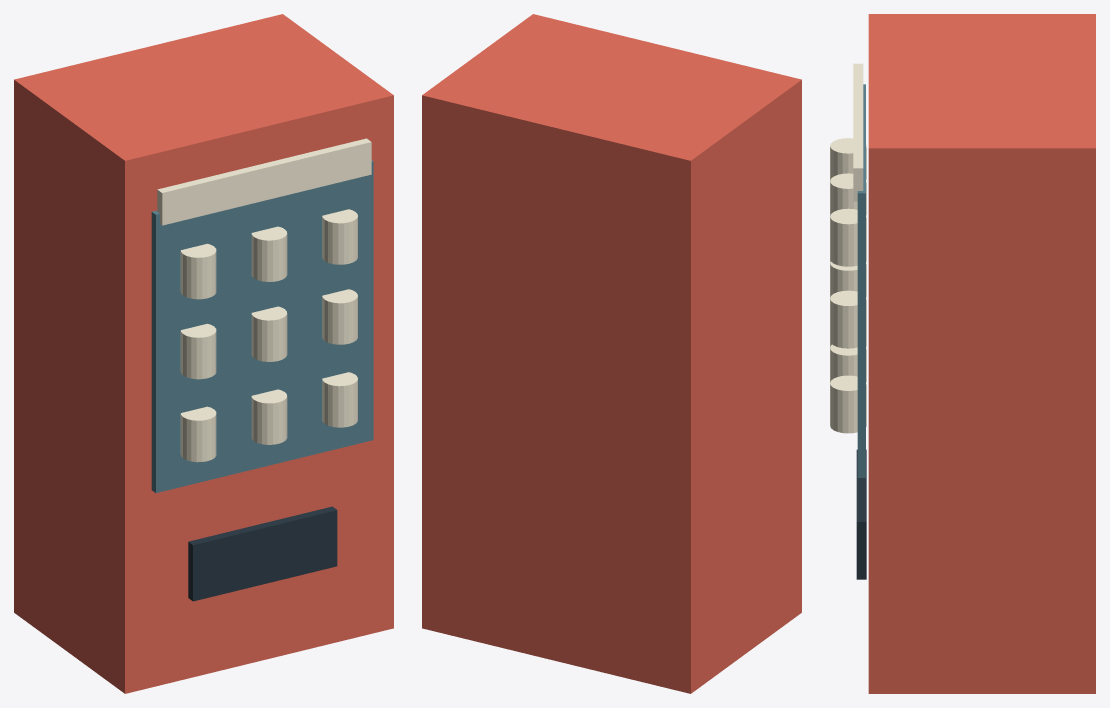
File: food.glb
3 views of the same model, side by side, from view 1: azimuth 30°, elevation 25°; view 2: azimuth 150°, elevation 25°; view 3: azimuth 270°, elevation 25° (orthographic). The views are drawn at different scales.
Parts seen in each view (by area): view 1: Machine, Display, Delivery slot, Label, Can.002, Can, Can.003, Can.001, Can.004, Can.005, Can.007, Can.006 (+1 smaller); view 2: Machine; view 3: Machine, Display, Can.006, Can.007, Can.008, Label, Delivery slot, Can.005, Can.002, Can.003, Can.004.
Boxes of the visible parts, box(x1,y1,x2,y2) form: Machine: box(14, 14, 393, 693); Display: box(151, 160, 373, 492); Delivery slot: box(188, 506, 337, 601); Label: box(157, 138, 371, 225); Can.002: box(180, 243, 216, 299); Can: box(180, 406, 216, 462); Can.003: box(251, 389, 287, 444); Can.001: box(180, 323, 216, 379); Can.004: box(251, 306, 287, 361); Can.005: box(251, 226, 287, 281); Can.007: box(322, 289, 357, 344); Can.006: box(322, 372, 357, 427); Machine: box(422, 14, 801, 693); Machine: box(868, 14, 1095, 693); Display: box(857, 84, 865, 477); Can.006: box(830, 375, 866, 433); Can.007: box(830, 290, 866, 348); Can.008: box(830, 208, 866, 266); Label: box(853, 63, 863, 201); Delivery slot: box(856, 449, 866, 579); Can.005: box(830, 173, 866, 215); Can.002: box(830, 138, 866, 180); Can.003: box(830, 344, 866, 382); Can.004: box(830, 261, 866, 297).
Size of the model in its own units: 0.95 by 1.8 by 0.795.
